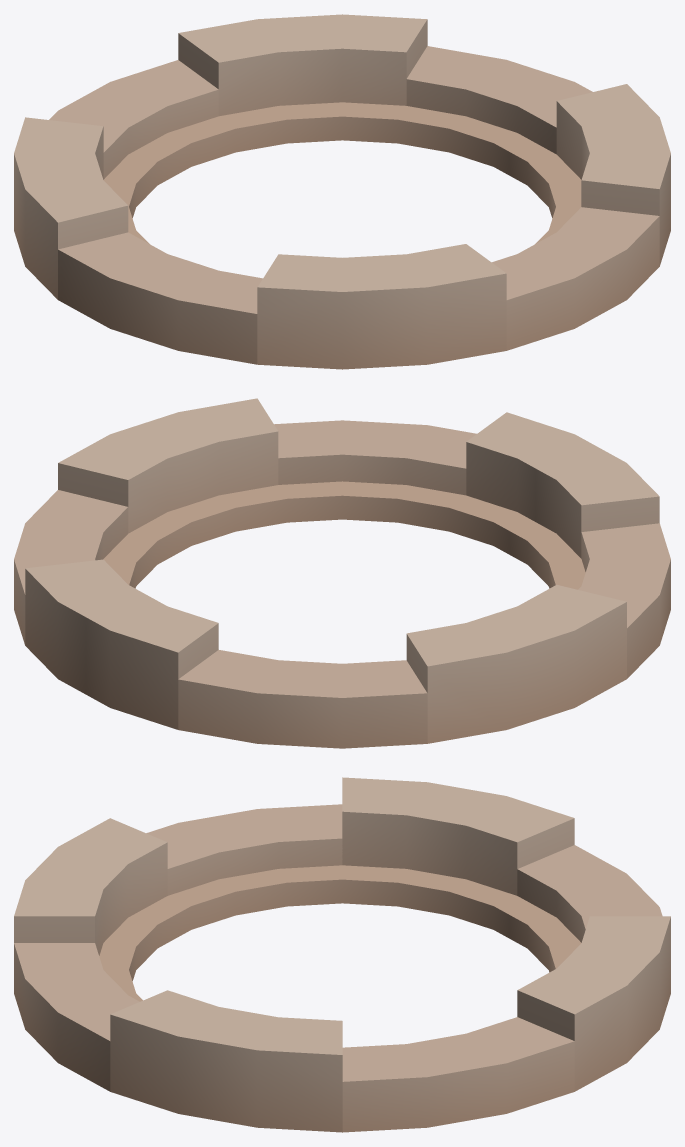
The model's file is tower-top.glb.
3 renders of one model, top to bottom at view 1: azimuth 30°, elevation 25°; view 2: azimuth 150°, elevation 25°; view 3: azimuth 270°, elevation 25°, orthographic.
Parts seen in each view (by area): view 1: tower-top; view 2: tower-top; view 3: tower-top.
Boxes of the visible parts, x1,y1,x2,y2 form: tower-top: (14,14,670,369); tower-top: (14,398,670,748); tower-top: (14,777,670,1132).
Size of the model in its own units: 1 by 0.13 by 1.
